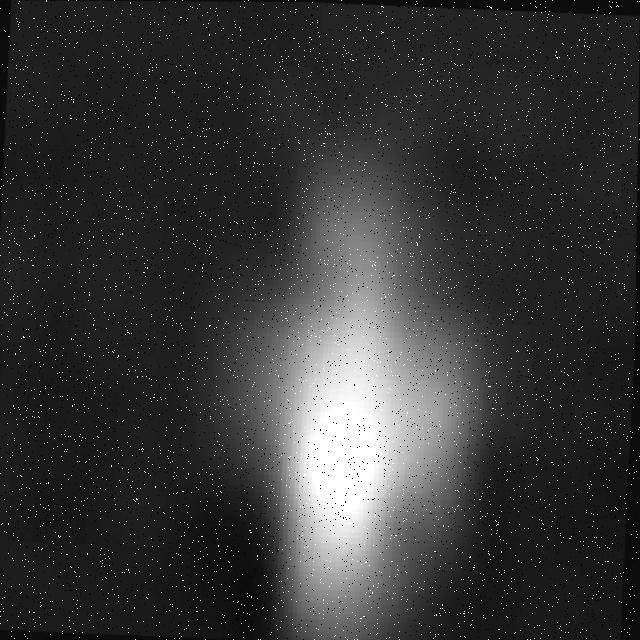person: (246, 136, 474, 640)
